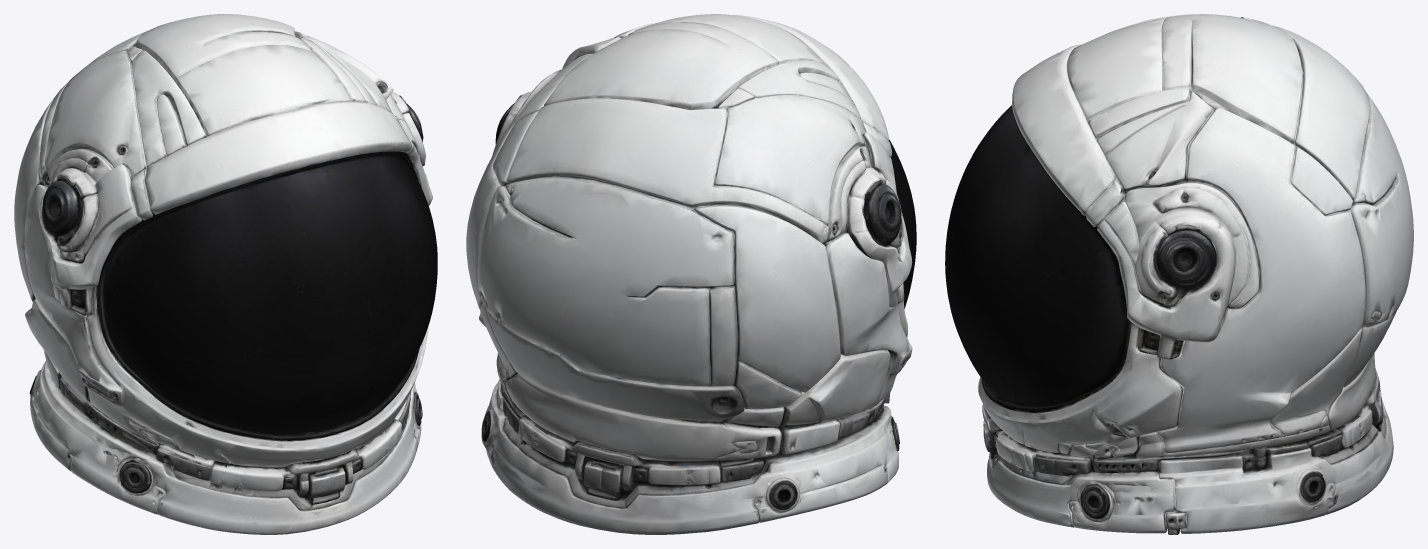
Rendered from helmet.glb.
3 renders of one model, left to right at view 1: azimuth 30°, elevation 25°; view 2: azimuth 150°, elevation 25°; view 3: azimuth 270°, elevation 25°, orthographic. The views are drawn at different scales.
Parts seen in each view (by area): view 1: tripo_node_7ffdc770-b794-453c-ab2a-be6f7f617a26; view 2: tripo_node_7ffdc770-b794-453c-ab2a-be6f7f617a26; view 3: tripo_node_7ffdc770-b794-453c-ab2a-be6f7f617a26.
Boxes of the visible parts, box(x1,y1,x2,y2) form: tripo_node_7ffdc770-b794-453c-ab2a-be6f7f617a26: box(14, 14, 437, 534); tripo_node_7ffdc770-b794-453c-ab2a-be6f7f617a26: box(466, 14, 916, 534); tripo_node_7ffdc770-b794-453c-ab2a-be6f7f617a26: box(945, 14, 1413, 534).
Size of the model in its own units: 0.8941 by 0.9796 by 0.9245.
1 material, 1 textured.
